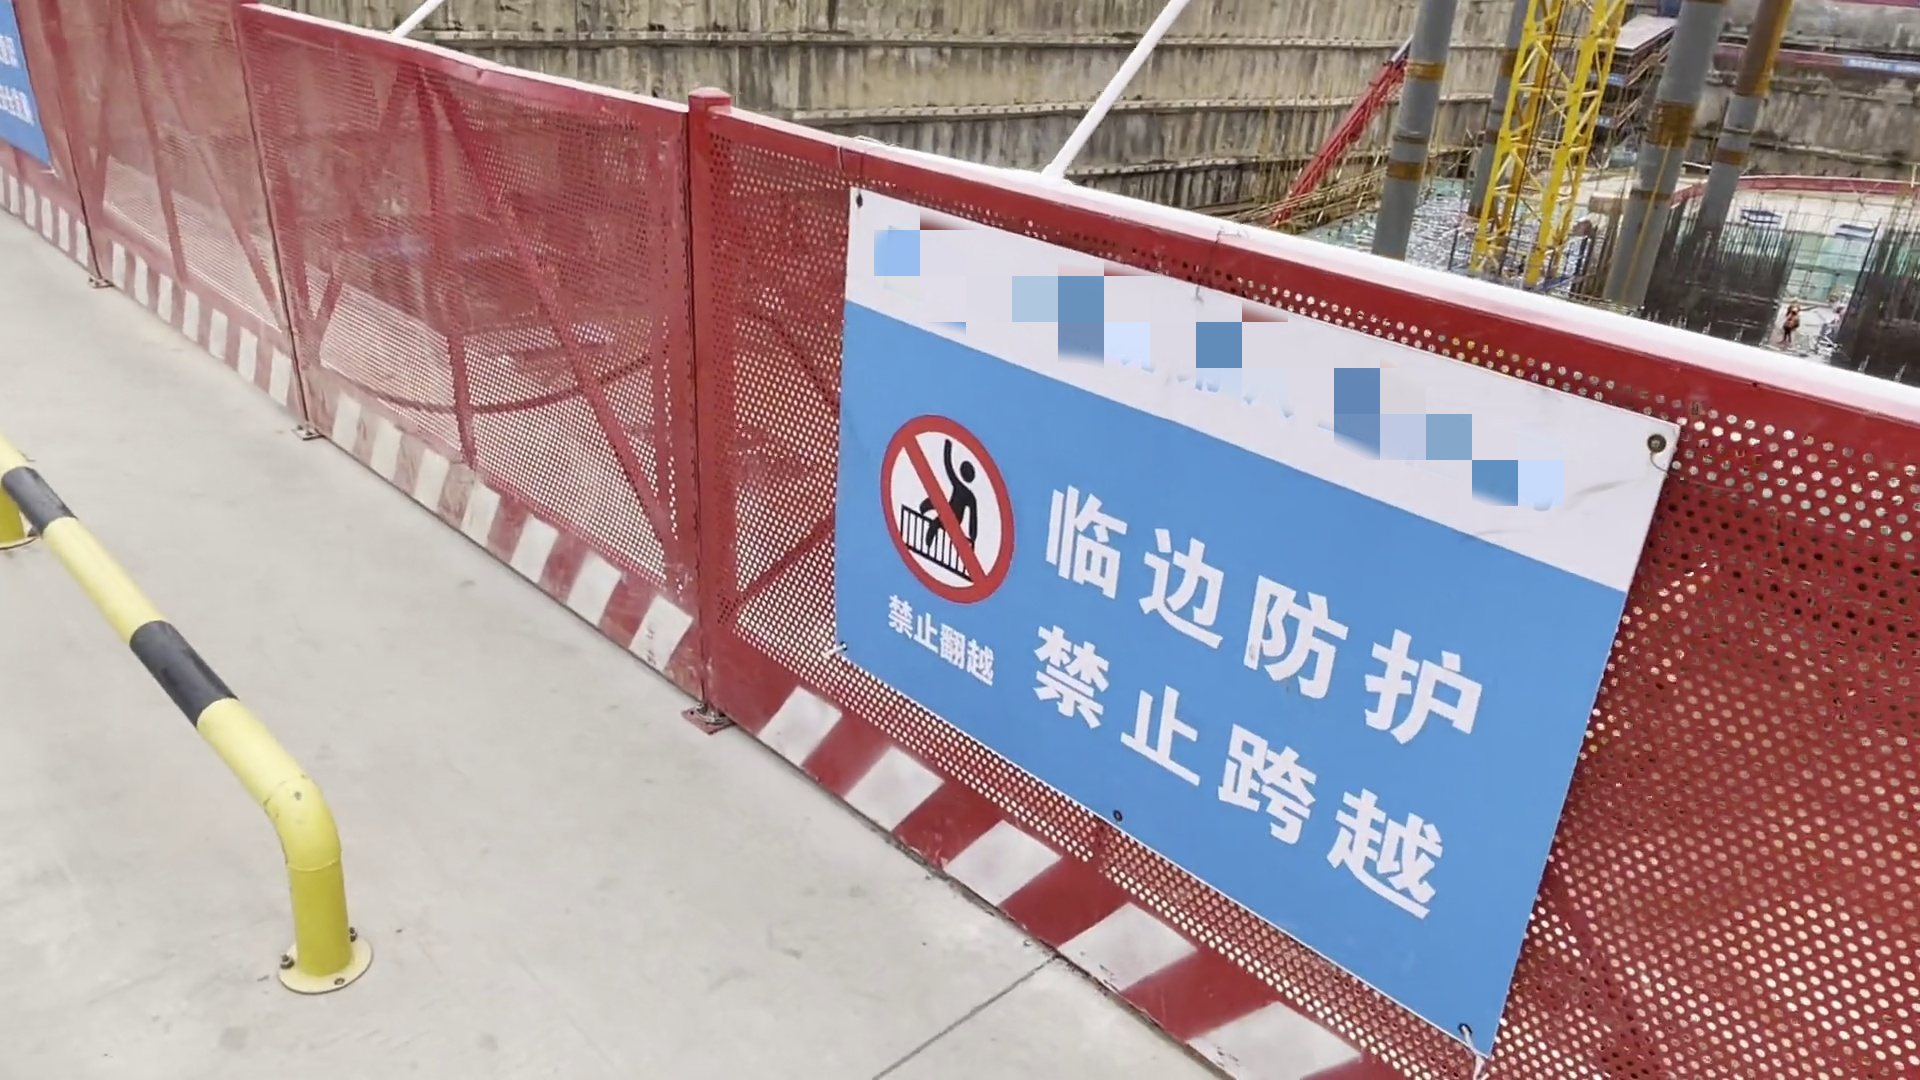fence: (135, 61, 1920, 1080)
slogan: (827, 189, 1681, 1054), (1, 1, 53, 171)
